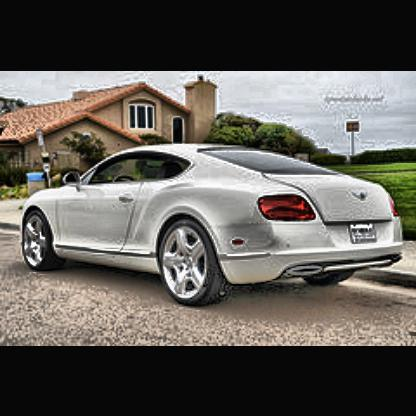Bentley Continental GT Coupe 2012: (15, 135, 411, 317)
